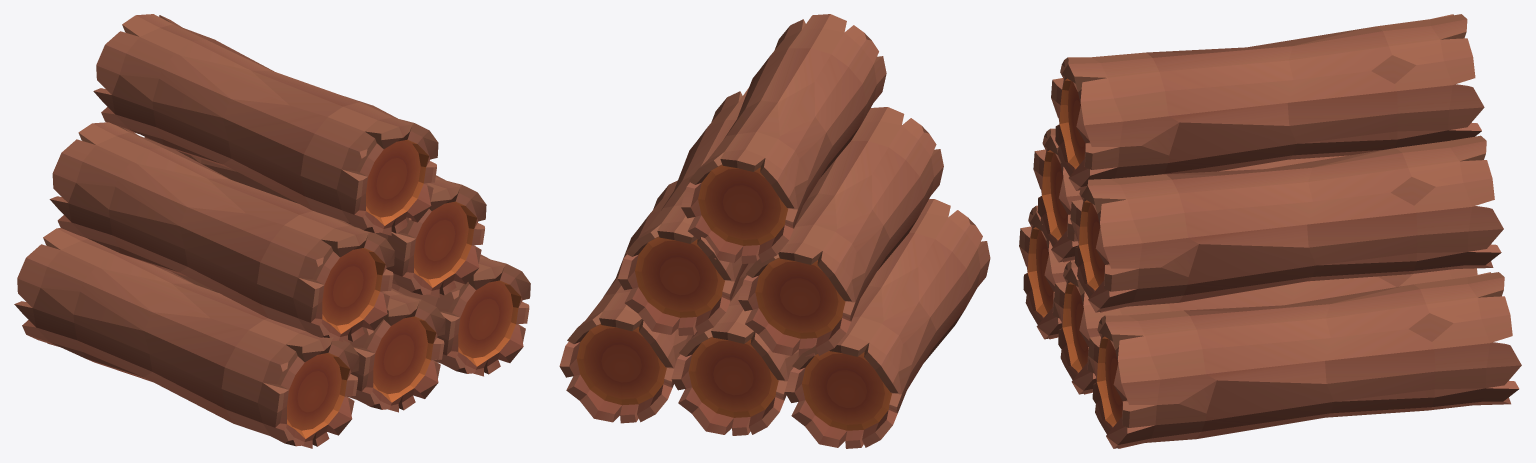
Rendered from Madeira bruta.fbx.
3 renders of one model, left to right at view 1: azimuth 30°, elevation 25°; view 2: azimuth 150°, elevation 25°; view 3: azimuth 270°, elevation 25°, orthographic. The views are drawn at different scales.
Visible parts, largest first — view 1: Madeira bruta; view 2: Madeira bruta; view 3: Madeira bruta.
Part boxes in pixels (box(x1,y1,x2,y2)): Madeira bruta: box(14, 14, 530, 448); Madeira bruta: box(559, 14, 990, 448); Madeira bruta: box(1019, 14, 1521, 448).
Bounding box in the file's own units: 236 × 170 × 241.
